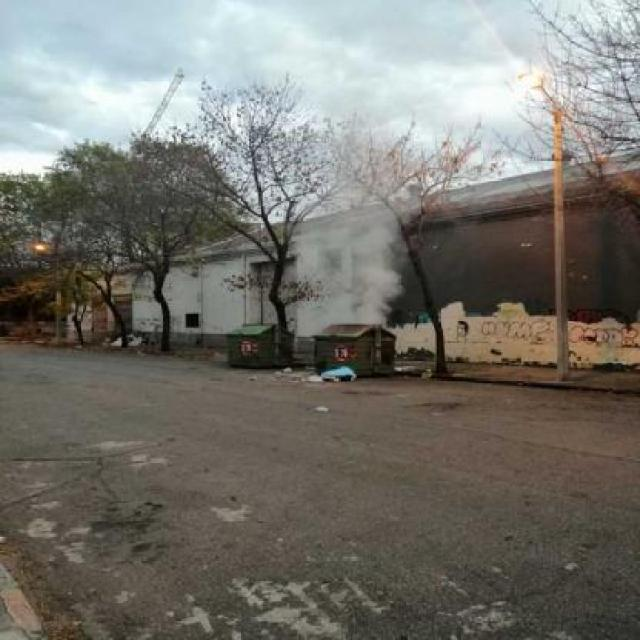garbage: (305, 362, 371, 401), (93, 322, 153, 349), (314, 360, 344, 392)
